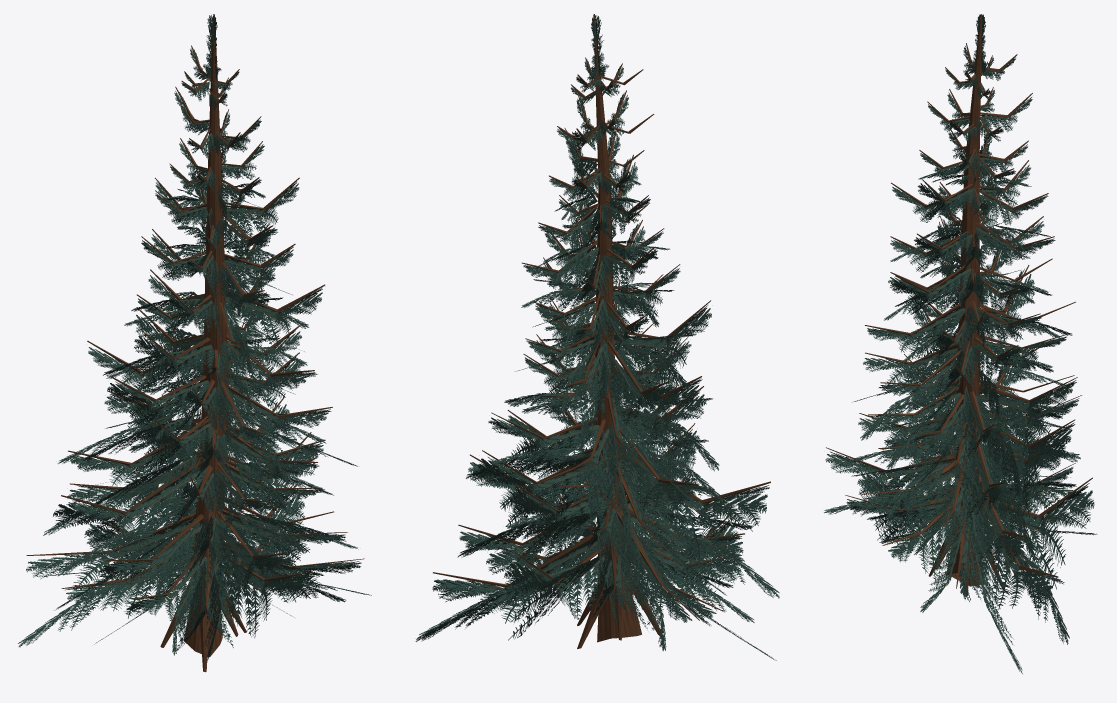
Rendered from spruce.glb.
3 renders of one model, left to right at view 1: azimuth 30°, elevation 25°; view 2: azimuth 150°, elevation 25°; view 3: azimuth 270°, elevation 25°, orthographic. The views are drawn at different scales.
Visible parts, largest first — view 1: spruce.132; view 2: spruce.132; view 3: spruce.132.
Part boxes in pixels (x1,y1,x2,y2): spruce.132: [18, 14, 371, 672]; spruce.132: [415, 14, 779, 660]; spruce.132: [824, 14, 1097, 673].
Size of the model in its own units: 0.5867 by 1.04 by 0.4437.
2 materials, 2 textured.
